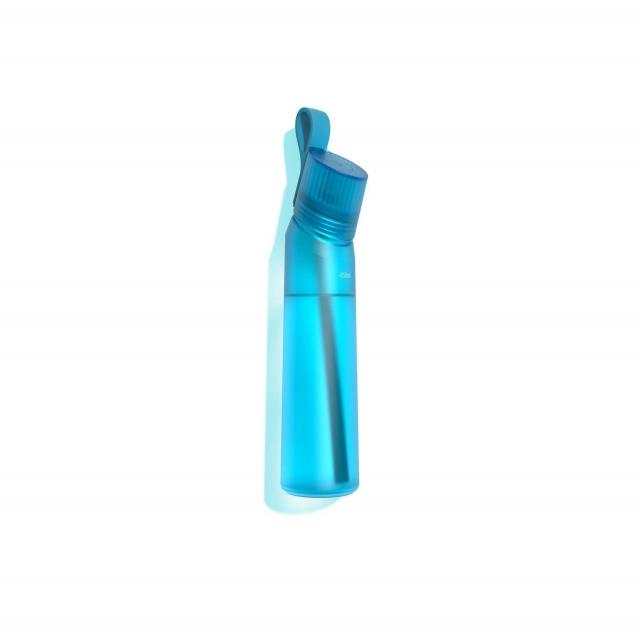gym bottle: (276, 105, 370, 503)
